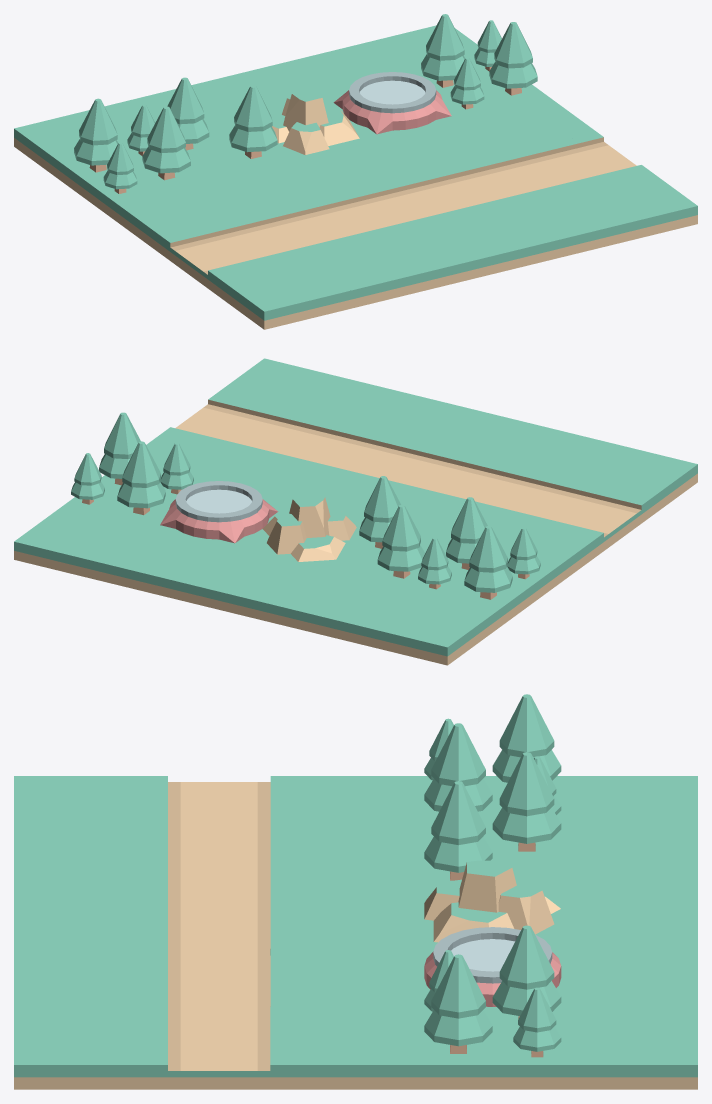
Rendered from Level_0.glb.
3 renders of one model, top to bottom at view 1: azimuth 30°, elevation 25°; view 2: azimuth 150°, elevation 25°; view 3: azimuth 270°, elevation 25°, orthographic. The views are drawn at different scales.
Visible parts, largest first — view 1: grass.015, grass.006, grass.007, grass.005, grass.008, grass.014, road.005, base.001, road.003, grass.004, road.002, road.004 (+24 smaller); view 2: grass.016, grass.011, grass.013, grass.010, grass.012, grass.015, base.001, road.005, road.003, road.004, grass.005, grass.007 (+24 smaller); view 3: grass.004, grass.008, grass.012, road.004, road.002, grass.001, grass.002, road.003, grass.005, grass.006, grass.010, grass.011 (+21 smaller).
Boxes of the visible parts, x1=… form: grass.015: x1=214, y1=254, x2=350, y2=329; grass.006: x1=388, y1=211, x2=524, y2=287; grass.007: x1=475, y1=190, x2=611, y2=266; grass.005: x1=301, y1=233, x2=437, y2=308; grass.008: x1=561, y1=169, x2=697, y2=244; grass.014: x1=114, y1=180, x2=250, y2=256; road.005: x1=164, y1=217, x2=300, y2=292; base.001: x1=333, y1=72, x2=451, y2=134; road.003: x1=425, y1=154, x2=560, y2=211; grass.004: x1=461, y1=96, x2=597, y2=153; road.002: x1=338, y1=175, x2=473, y2=232; road.004: x1=511, y1=132, x2=647, y2=190; grass.016: x1=361, y1=589, x2=497, y2=665; grass.011: x1=187, y1=547, x2=323, y2=622; grass.013: x1=100, y1=526, x2=236, y2=601; grass.010: x1=274, y1=568, x2=410, y2=644; grass.012: x1=14, y1=505, x2=150, y2=580; grass.015: x1=561, y1=443, x2=697, y2=518; base.001: x1=160, y1=481, x2=278, y2=543; road.005: x1=511, y1=479, x2=647, y2=555; road.003: x1=251, y1=416, x2=387, y2=473; road.004: x1=164, y1=395, x2=300, y2=452; grass.005: x1=475, y1=422, x2=610, y2=479; grass.007: x1=301, y1=379, x2=437, y2=437; grass.004: x1=287, y1=1007, x2=424, y2=1089; grass.008: x1=14, y1=1007, x2=150, y2=1089; grass.012: x1=561, y1=1007, x2=697, y2=1089; road.004: x1=150, y1=1007, x2=287, y2=1089; road.002: x1=150, y1=891, x2=287, y2=955; grass.001: x1=287, y1=833, x2=424, y2=891; grass.002: x1=287, y1=891, x2=424, y2=949; road.003: x1=150, y1=949, x2=287, y2=1013; grass.005: x1=14, y1=833, x2=150, y2=891; grass.006: x1=14, y1=891, x2=150, y2=949; grass.010: x1=561, y1=833, x2=697, y2=891; grass.011: x1=561, y1=891, x2=697, y2=949.
Size of the model in its own units: 5 by 0.96 by 5.
